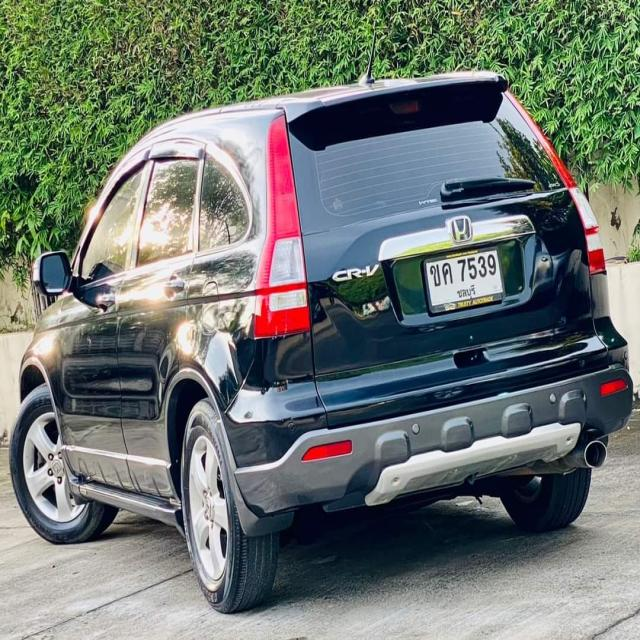license_plate: (421, 246, 506, 316)
